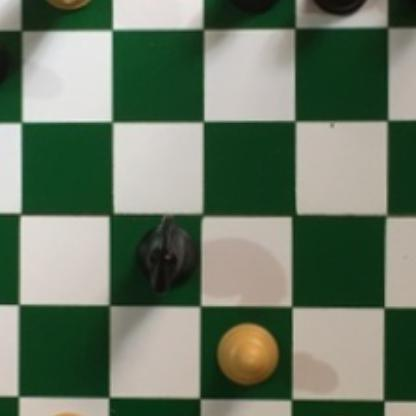black-knight: (134, 214, 197, 297)
black-pawn: (305, 0, 371, 20), (219, 0, 284, 20), (0, 32, 7, 100), (401, 0, 416, 15)
white-knight: (33, 0, 100, 11)
white-pawn: (214, 321, 280, 390), (33, 409, 102, 416), (297, 412, 370, 416), (0, 409, 7, 416), (397, 416, 416, 416)
